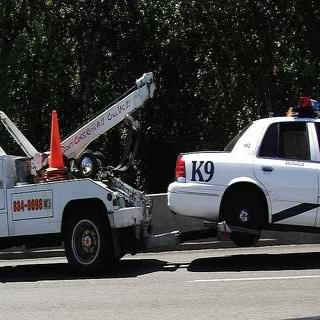Towing_truck: (0, 69, 158, 275)
